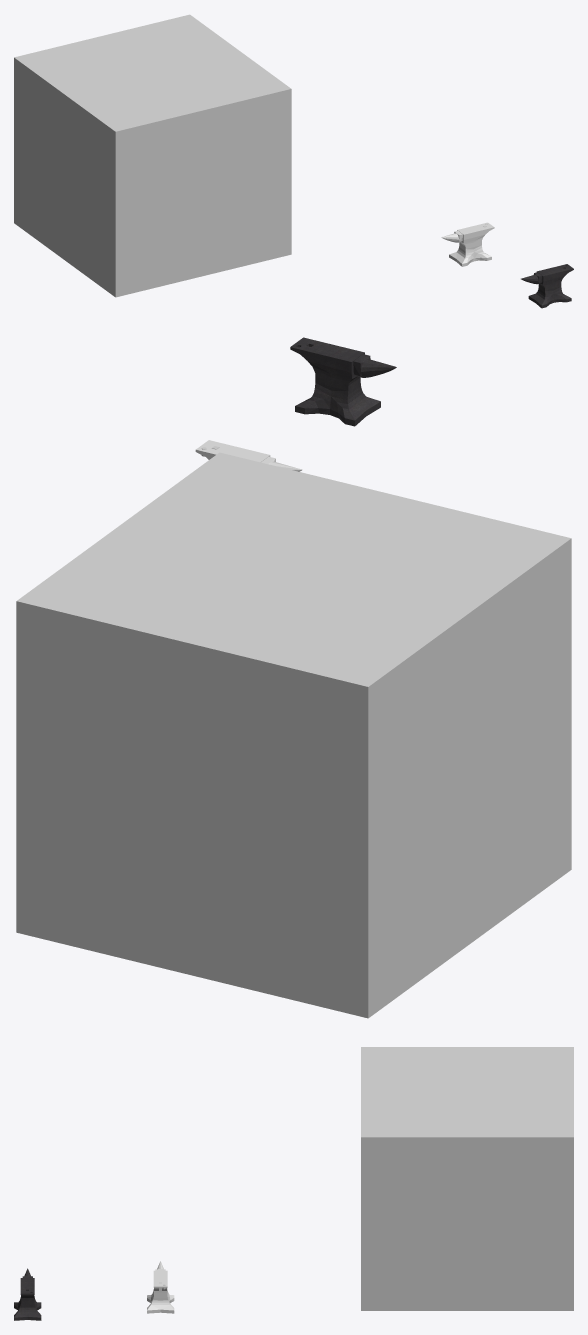
Rendered from anvil.dae.
3 renders of one model, top to bottom at view 1: azimuth 30°, elevation 25°; view 2: azimuth 150°, elevation 25°; view 3: azimuth 270°, elevation 25°, orthographic. The views are drawn at different scales.
Visible parts, largest first — view 1: Cube_004, Anvil, Cube_002; view 2: Cube_004, Anvil, Cube_002; view 3: Cube_004, Anvil, Cube_002.
Part boxes in pixels (box(x1,y1,x2,y2)): Cube_004: box(14, 14, 291, 297); Anvil: box(521, 264, 573, 308); Cube_002: box(441, 222, 494, 266); Cube_004: box(16, 452, 571, 1018); Anvil: box(290, 337, 396, 426); Cube_002: box(195, 440, 301, 471); Cube_004: box(361, 1047, 573, 1310); Anvil: box(14, 1268, 41, 1320); Cube_002: box(147, 1261, 174, 1313).
Bounding box in the file's own units: 3.37 × 5.26 × 1.8.
Materials: 1 (1 with a texture image).
